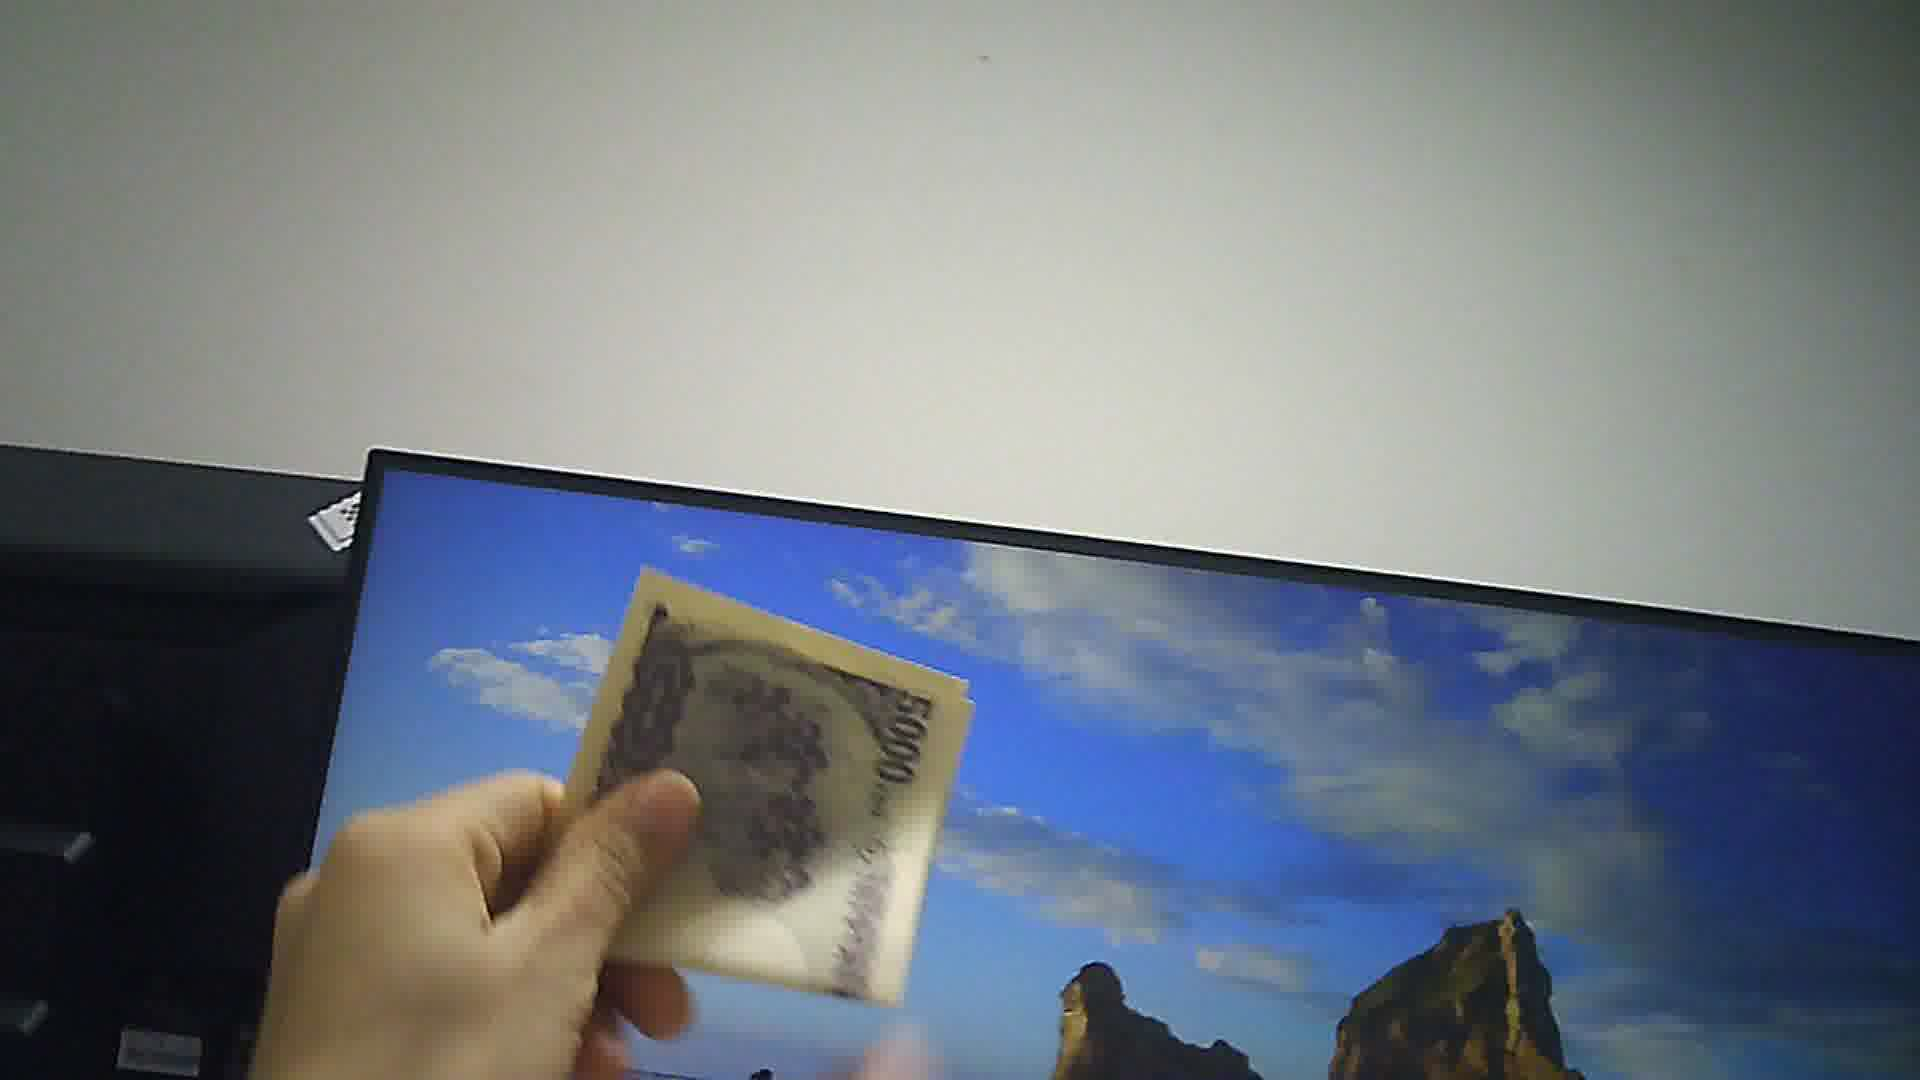5,000 Yen: (527, 559, 993, 1021)
